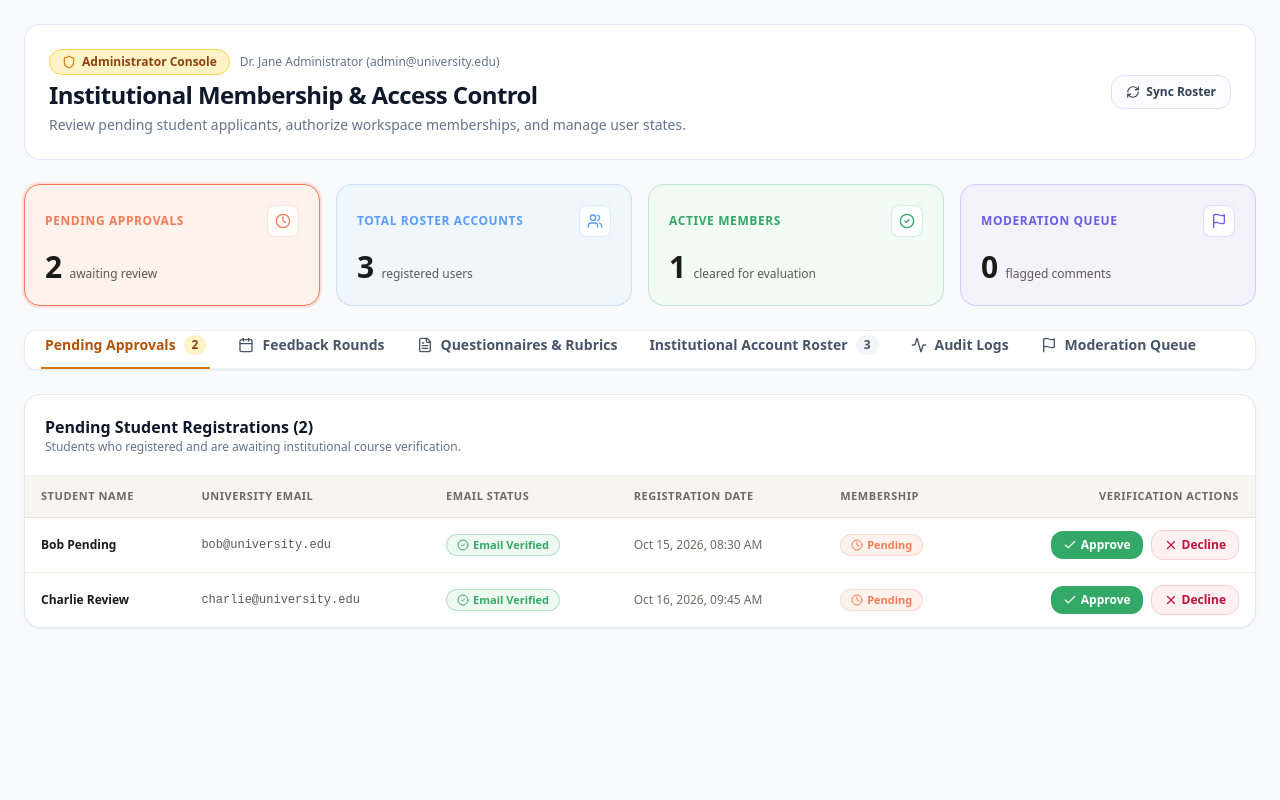
Test: Administrator Dashboard & Membership Views (Stage 4) › approves a pending student when Approve button is clicked
The width and height of the screenshot is (1280, 800).
Click the button with aria-label "Approve Bob Pending".
click(1097, 544)  # box top-left (1051, 530), bottom-right (1143, 558)
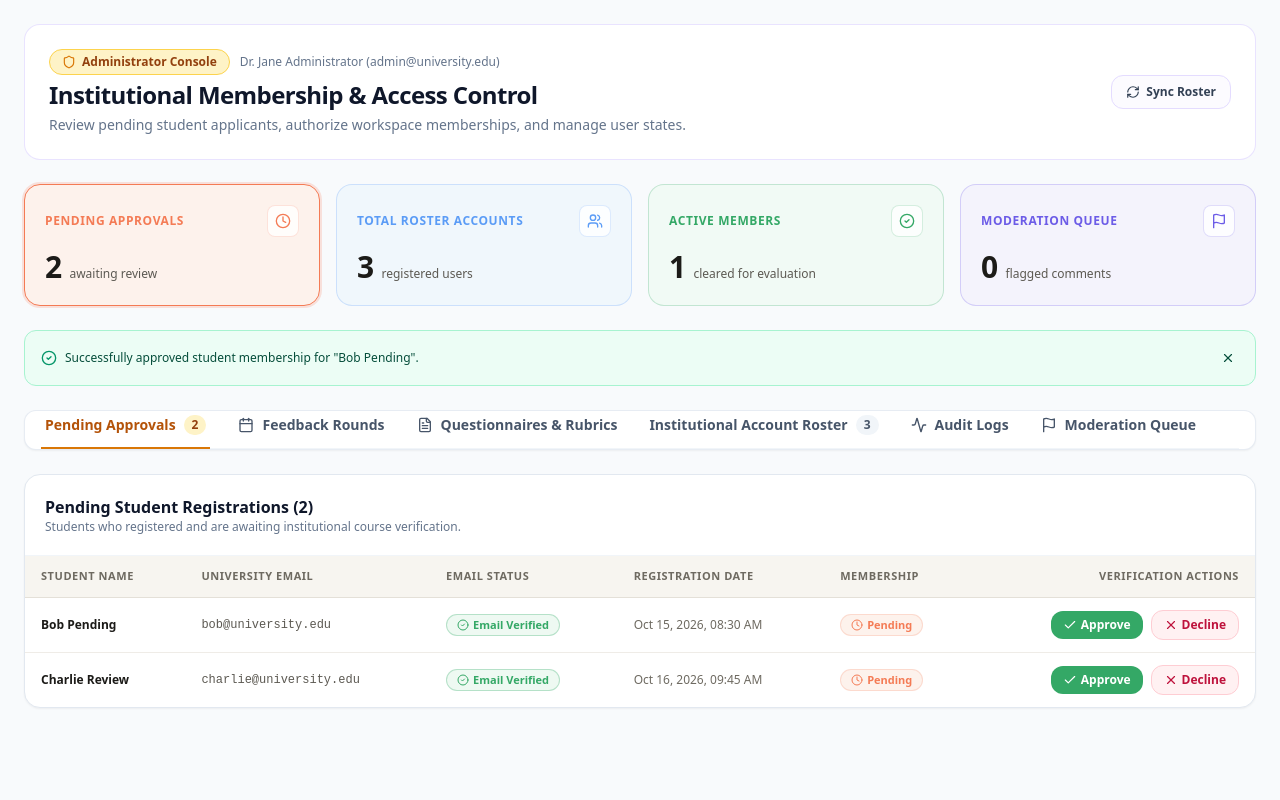
Expected: the text "Successfully approved student membership for \"Bob Pending\"." is shown, top-left (65, 350), bottom-right (419, 366)
